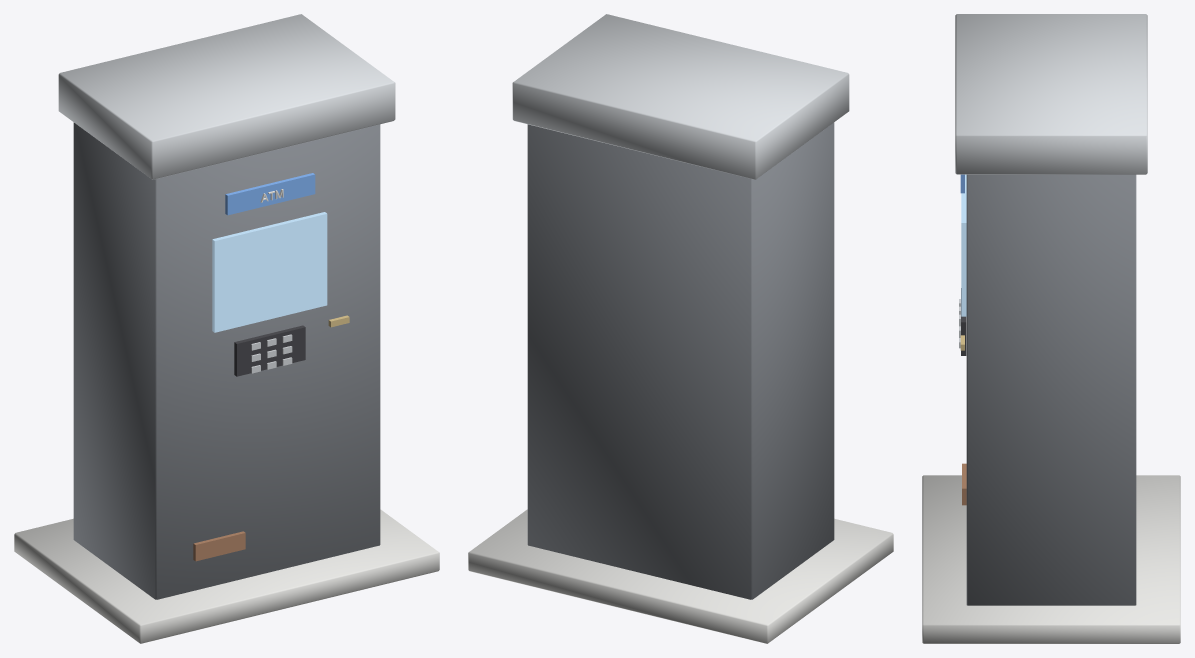
File: Kiosk_ATM.fbx
3 renders of one model, left to right at view 1: azimuth 30°, elevation 25°; view 2: azimuth 150°, elevation 25°; view 3: azimuth 270°, elevation 25°, orthographic. The views are drawn at different scales.
Visible parts, largest first — view 1: LOD0; view 2: LOD0; view 3: LOD0.
Boxes of the visible parts, x1=… form: LOD0: x1=14, y1=14, x2=439, y2=643; LOD0: x1=468, y1=14, x2=893, y2=643; LOD0: x1=922, y1=14, x2=1180, y2=643.
Size of what is drawn, in the model's own units: 96 by 148 by 70.
